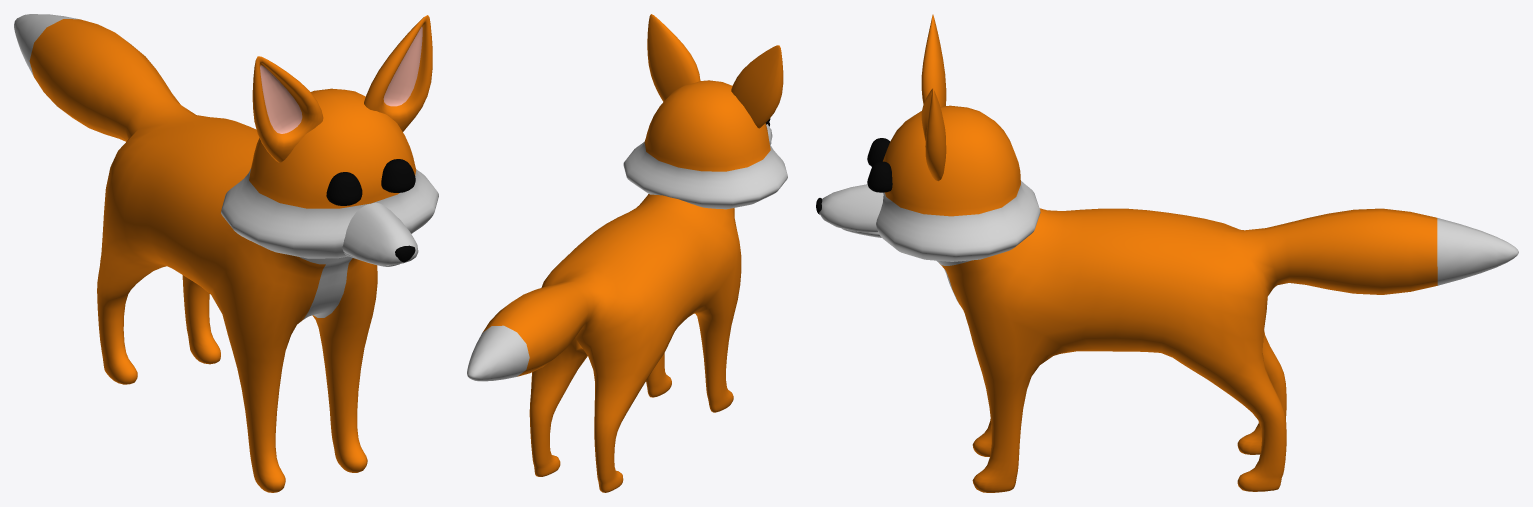
File: Fox.glb
The picture shows the model from 3 angles, left to right: view 1: azimuth 30°, elevation 25°; view 2: azimuth 150°, elevation 25°; view 3: azimuth 270°, elevation 25°; orthographic projection. The views are drawn at different scales.
Parts seen in each view (by area): view 1: Fox, Eyes_Fox; view 2: Fox; view 3: Fox, Eyes_Fox.
Boxes of the visible parts, left/top/right/bottom form: Fox: left=14, top=14, right=438, bottom=492; Eyes_Fox: left=326, top=159, right=415, bottom=205; Fox: left=467, top=14, right=787, bottom=492; Fox: left=816, top=14, right=1518, bottom=492; Eyes_Fox: left=867, top=138, right=892, bottom=192.
Bounding box in the file's own units: 1.2 × 2.76 × 4.18.
